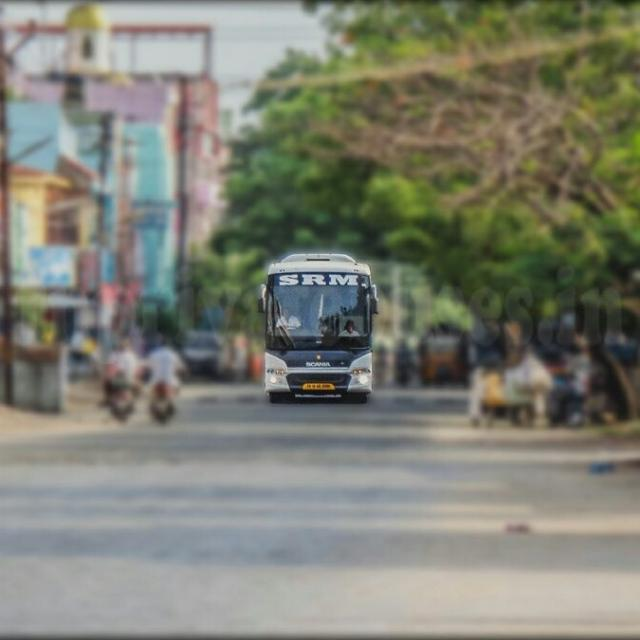Bus: (255, 251, 381, 404)
